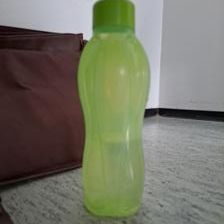bottle: (74, 0, 158, 216)
